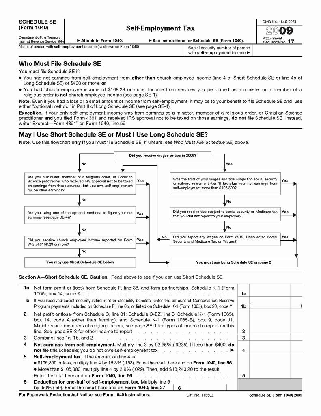textbox: (17, 43, 186, 58), (247, 307, 292, 335), (248, 351, 293, 379), (236, 377, 304, 392), (251, 42, 304, 58), (248, 282, 292, 298), (248, 338, 292, 354), (248, 295, 292, 310), (289, 307, 306, 336), (289, 351, 306, 379), (183, 382, 228, 392), (248, 332, 292, 342), (289, 338, 307, 354), (289, 282, 305, 298), (290, 295, 305, 310), (289, 332, 305, 342), (225, 381, 240, 391)
